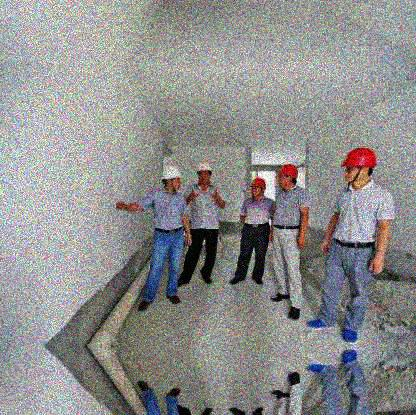helmet: (337, 147, 379, 187), (276, 162, 300, 190), (161, 166, 182, 194), (246, 176, 268, 198), (194, 162, 214, 186)
